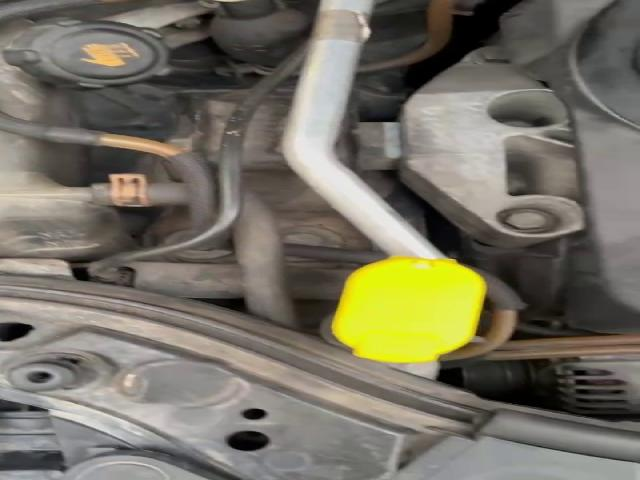antifreeze_tank: (0, 18, 168, 127), (0, 133, 135, 260)
